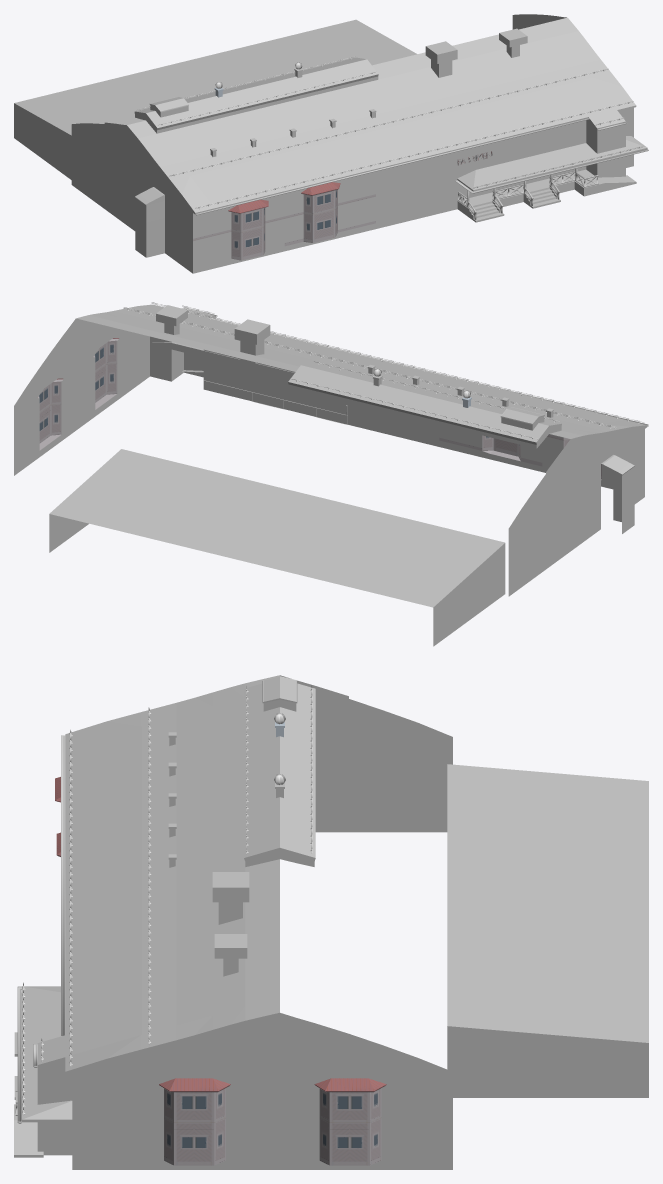
Rendered from OP-House_Fabriken.fbx.
3 renders of one model, top to bottom at view 1: azimuth 30°, elevation 25°; view 2: azimuth 150°, elevation 25°; view 3: azimuth 270°, elevation 25°, orthographic. The views are drawn at different scales.
Parts seen in each view (by area): view 1: Cube.220; view 2: Cube.220; view 3: Cube.220.
Part boxes in pixels (box(x1,y1,x2,y2)): Cube.220: box(14, 14, 648, 273); Cube.220: box(14, 302, 648, 646); Cube.220: box(14, 675, 648, 1169).
Size of the model in its own units: 5890 by 1448 by 4405.
